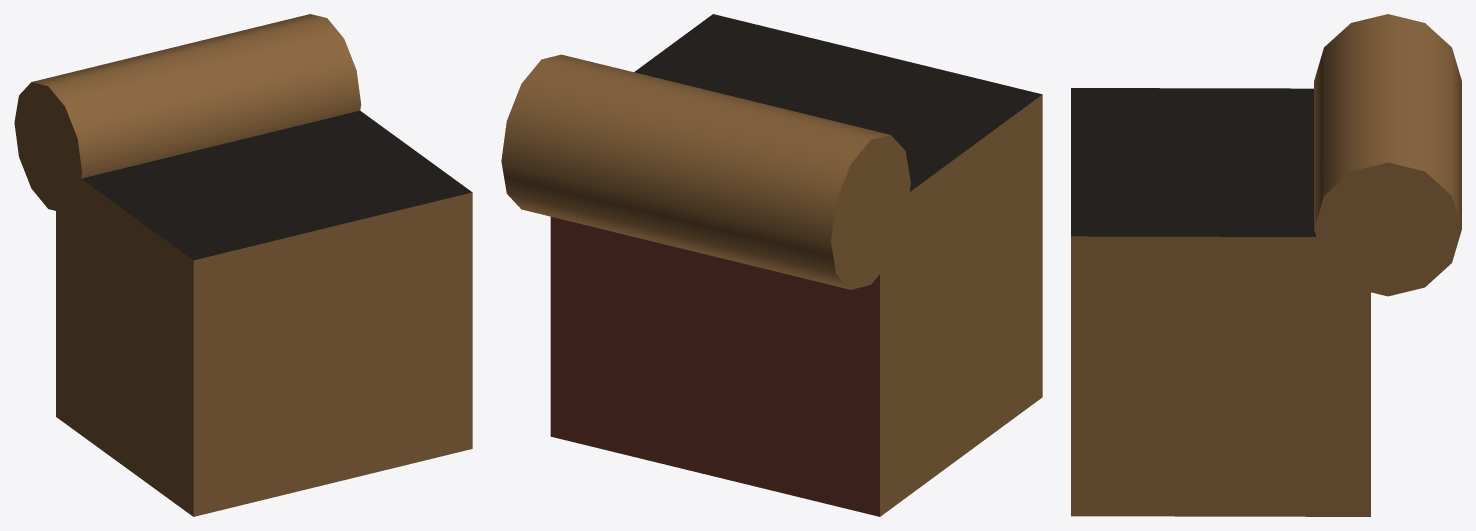
Rendered from final_conveyor1.fbx.
3 renders of one model, left to right at view 1: azimuth 30°, elevation 25°; view 2: azimuth 150°, elevation 25°; view 3: azimuth 270°, elevation 25°, orthographic. The views are drawn at different scales.
Parts seen in each view (by area): view 1: cube, rim; view 2: cube, rim; view 3: cube, rim.
Part boxes in pixels (x1,y1,x2,y2): cube: (56,110,472,516); rim: (14,14,361,210); cube: (550,14,1042,516); rim: (501,54,910,289); cube: (1071,88,1370,516); rim: (1314,14,1461,296).
Size of the model in its own units: 200 by 223 by 222.
